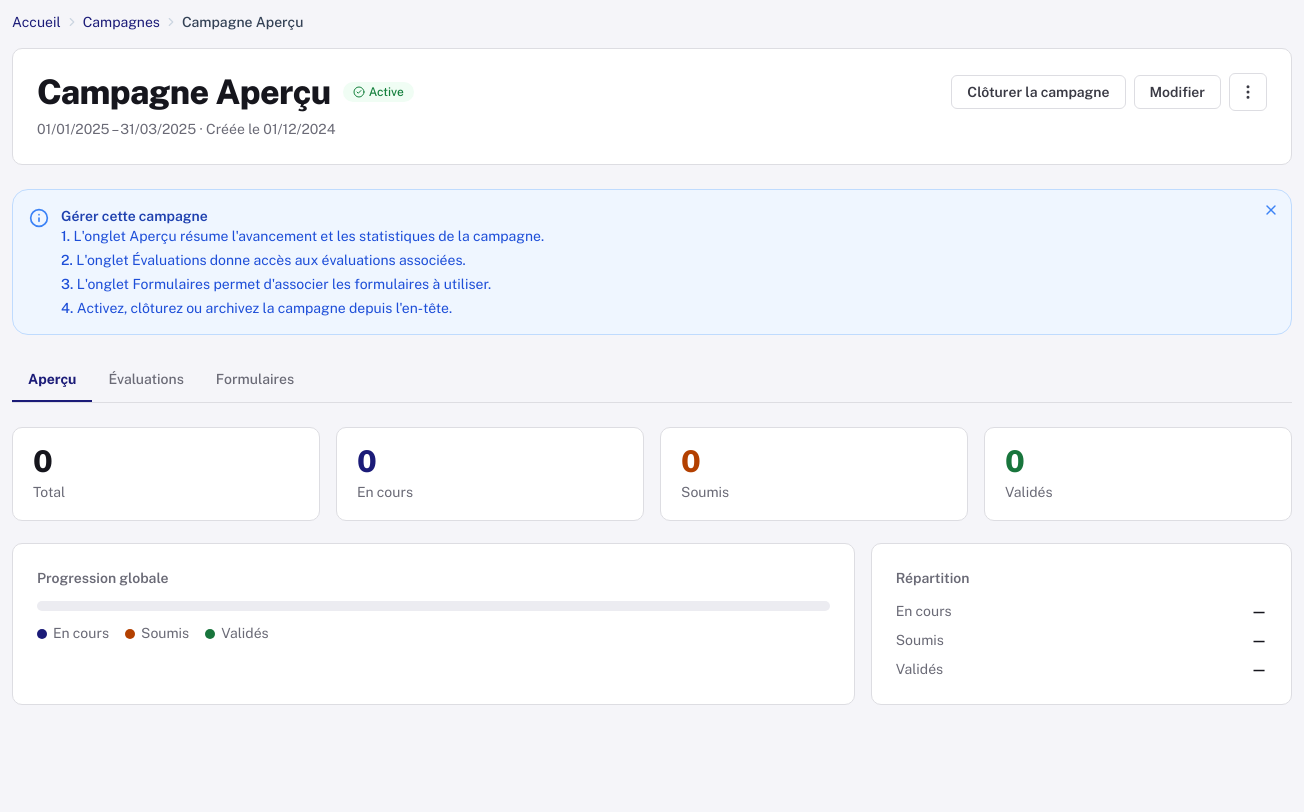
Test: CampaignDetailPage › affiche les informations de la campagne et les onglets navigables
This screenshot has width=1304, height=812.
Expected: the heading "Campagne Aperçu" is shown, [37,73,331,111]
Expected: the text "01/01/2025 – 31/03/2025 · Créée le 01/12/2024" is shown, [37,121,336,137]
Click the button "Évaluations" at (146, 381), box [92,359,200,402]
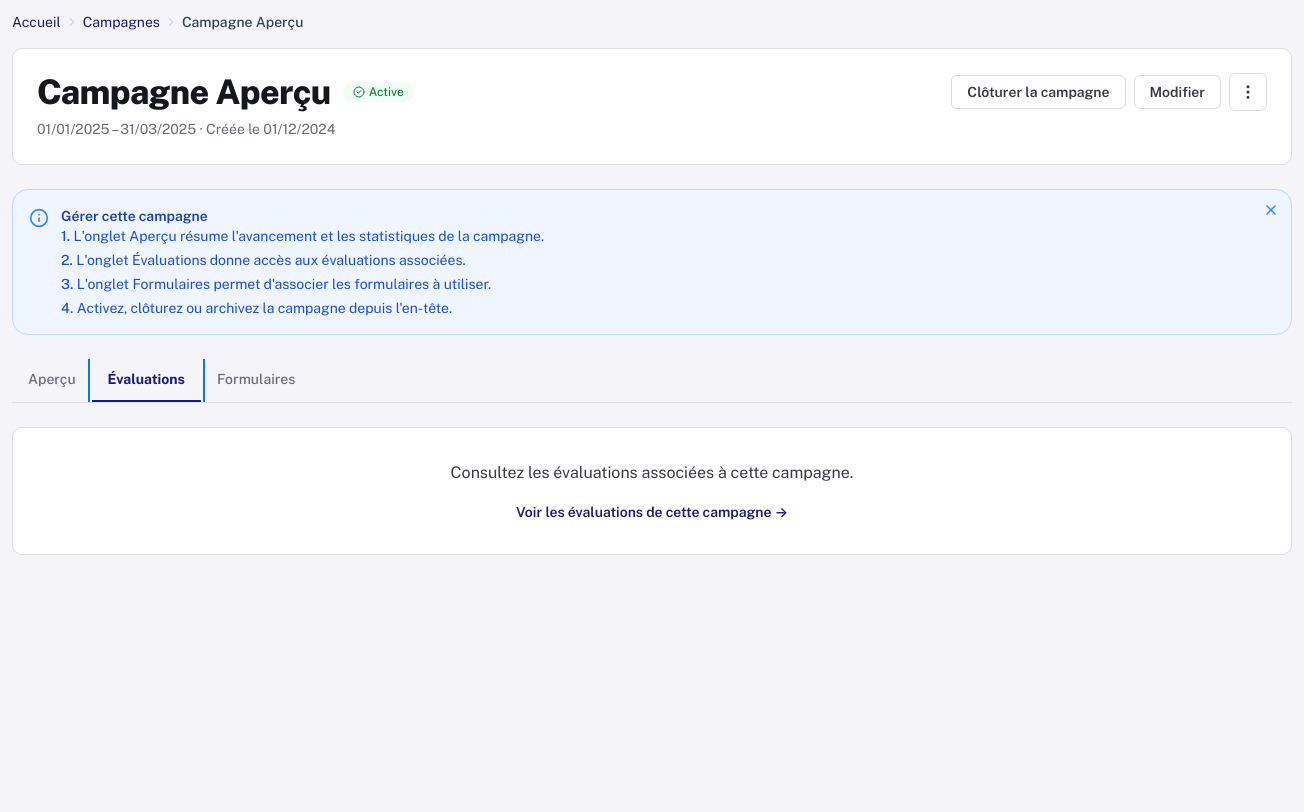
Now the text "Consultez les évaluations associées à cette campagne." is shown, box [451,463,853,482]
Click the button "Formulaires" at (256, 381), box [201,359,311,402]
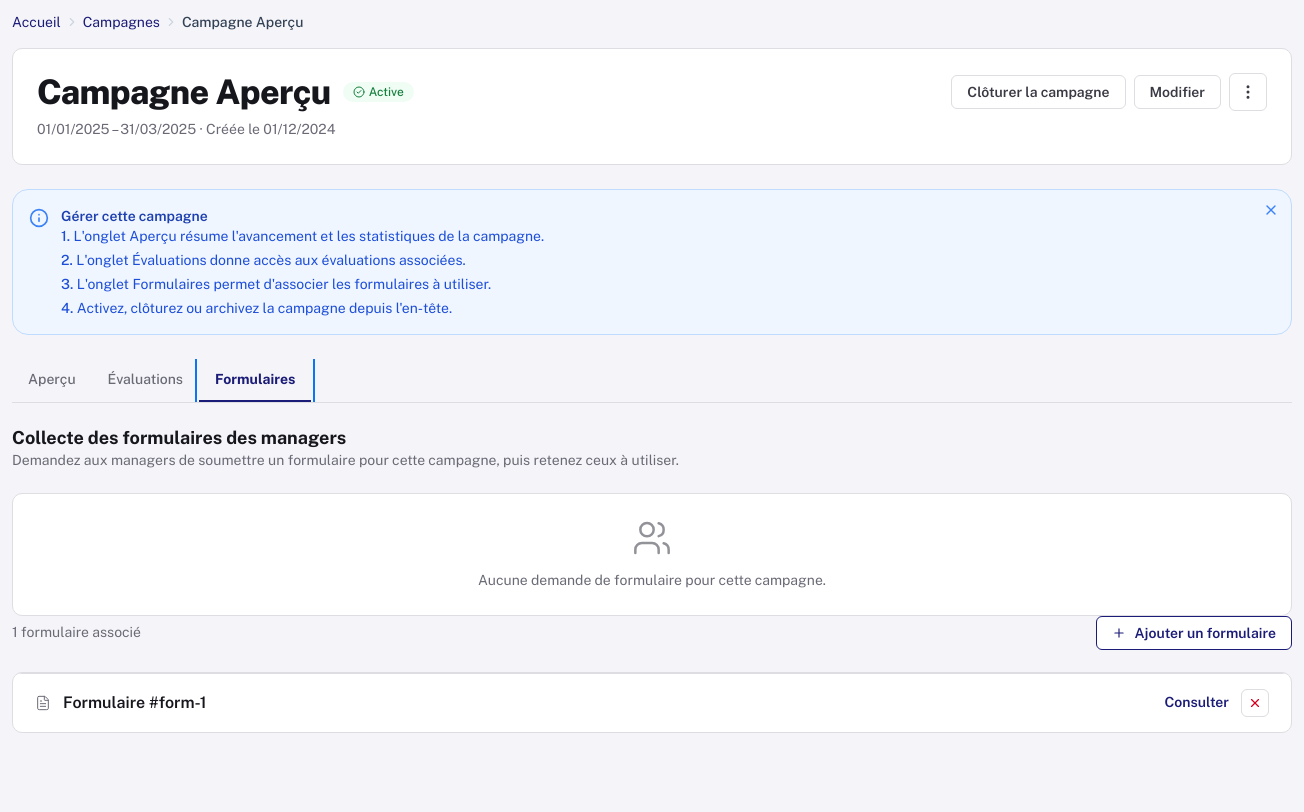
Now the text "Formulaire #form-1" is shown, box [63,690,206,715]
Click the button "Aperçu" at (52, 381), box [12,359,92,402]
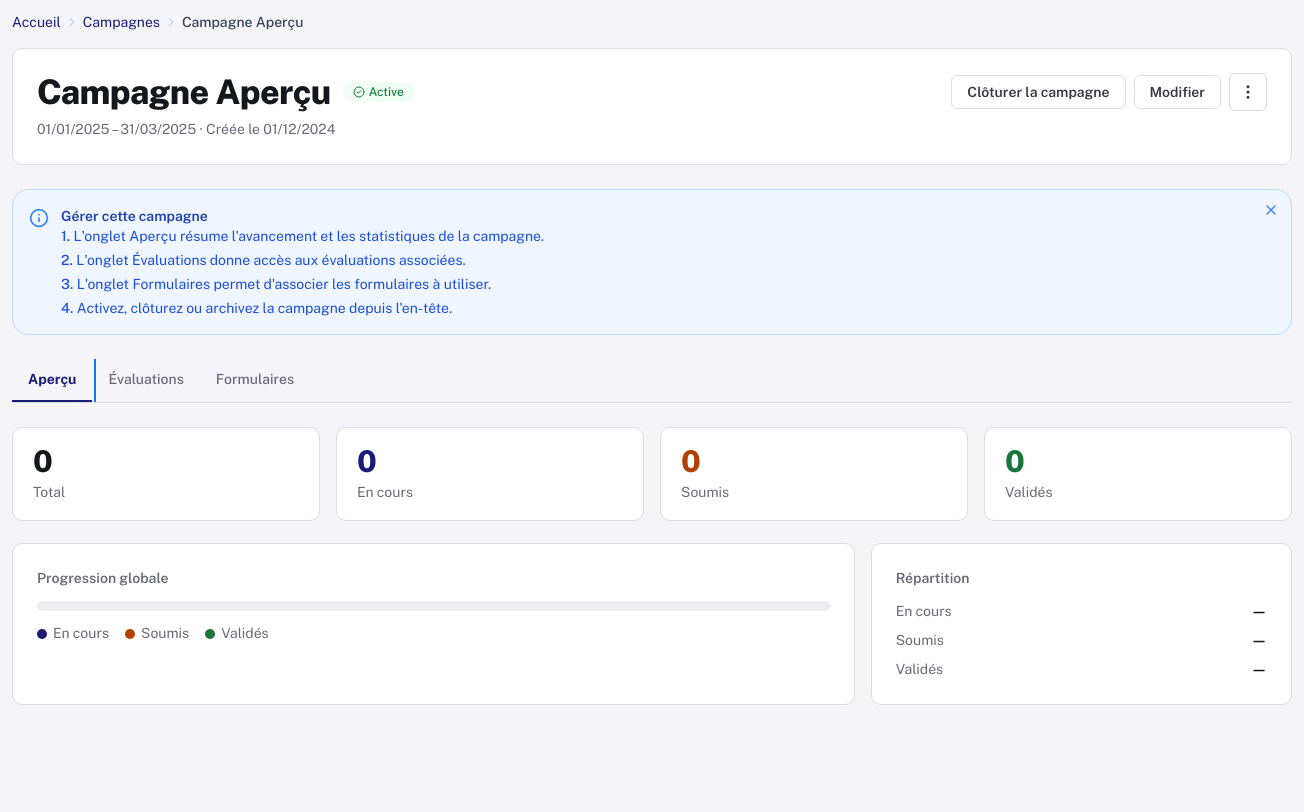
Now the text "Progression globale" is shown, box [37,570,168,586]
